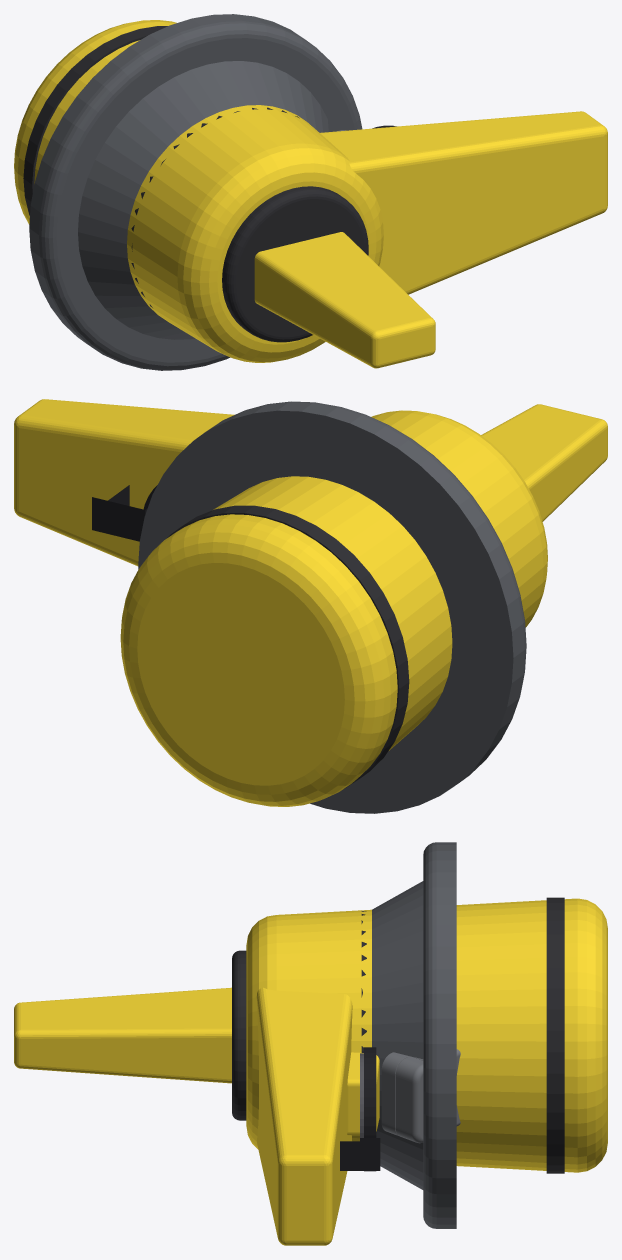
The model's file is arm.glb.
3 views of the same model, one above another, from view 1: azimuth 30°, elevation 25°; view 2: azimuth 150°, elevation 25°; view 3: azimuth 270°, elevation 25° (orthographic). The views are drawn at different scales.
Visible parts, largest first — view 1: b3, b1, b4; view 2: b3, b1, b4, b6; view 3: b3, b1, b4, b6, b8.
Part boxes in pixels (x1,y1,x2,y2): b3: [14, 20, 607, 362]; b1: [29, 14, 362, 370]; b4: [254, 232, 435, 368]; b3: [14, 399, 547, 806]; b1: [138, 401, 526, 813]; b4: [481, 404, 607, 521]; b6: [92, 485, 157, 541]; b3: [232, 897, 607, 1245]; b1: [361, 842, 456, 1228]; b4: [14, 987, 231, 1083]; b6: [340, 1047, 380, 1171]; b8: [381, 1049, 460, 1143].
Bounding box in the file's own units: 0.2896 × 0.1898 × 0.2913.
